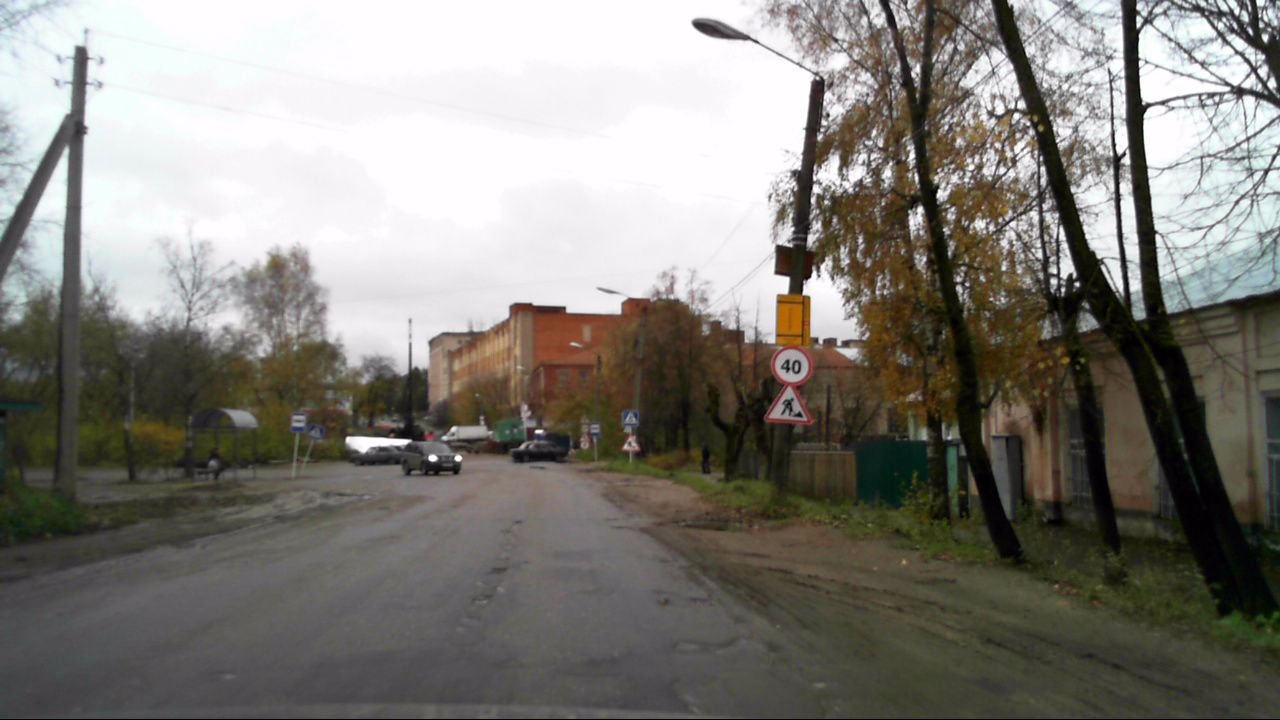speed_warning_40: (769, 344, 811, 386)
